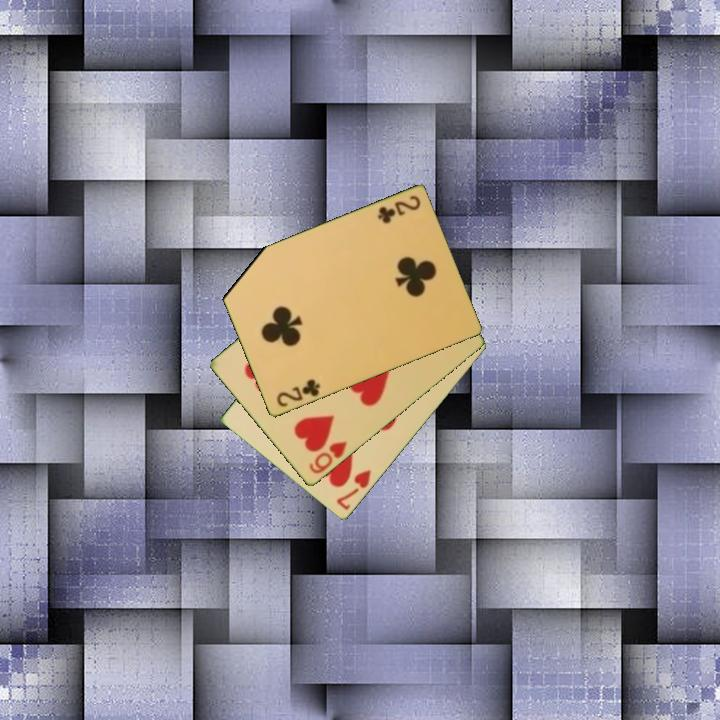2c: (374, 192, 424, 227), (273, 376, 323, 410)
6h: (305, 438, 350, 477)
7h: (333, 466, 374, 513)
